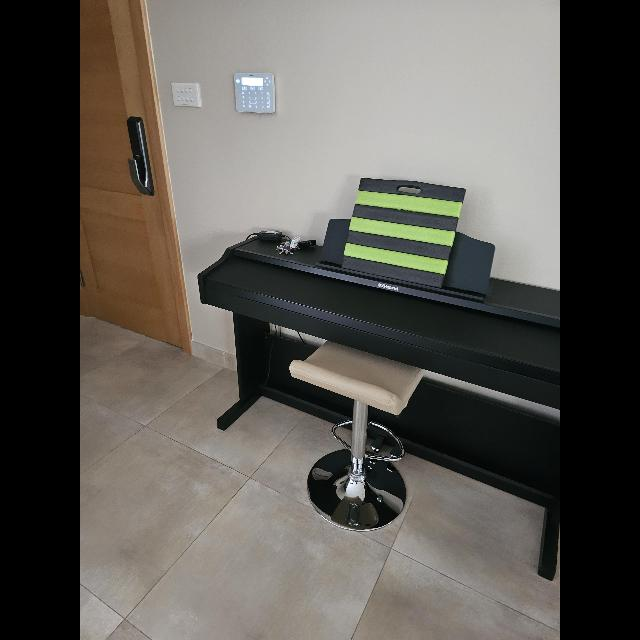Keys: (276, 240, 300, 256)
